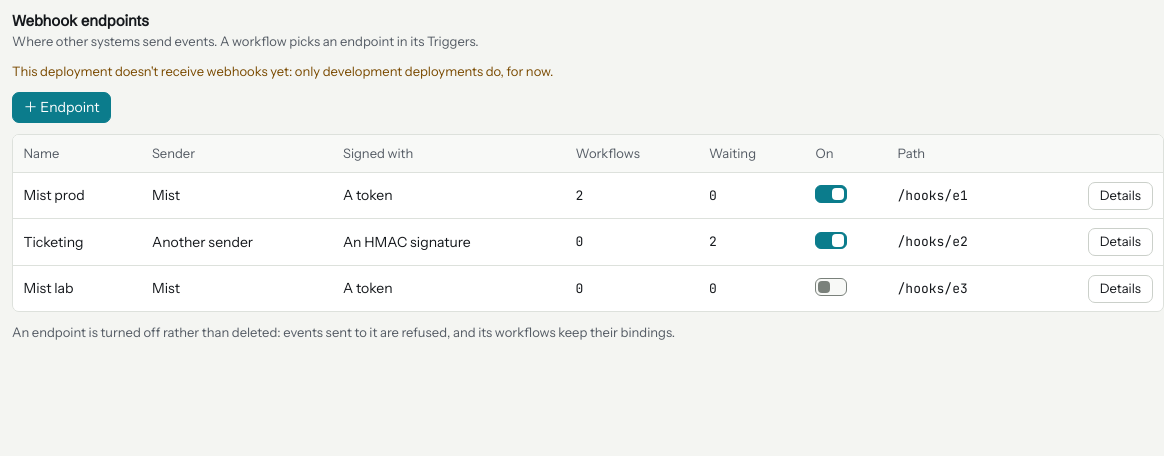
Test: Settings → Webhook endpoints › shows an endpoint's details: the workflows it starts, with their topics, and its path
Expected: the heading "Webhook endpoints" is shown, [12,11,149,30]
What coordinates should you click on to do the following:
click the button with aria-label "Mist prod, details"
I would click on:
 (1120, 196)
Its box is [1088,182,1152,210].
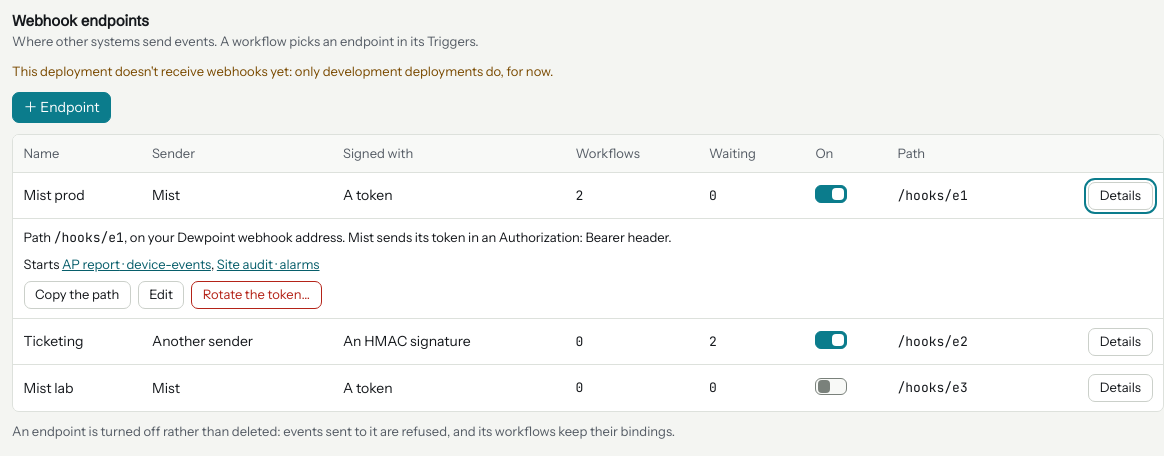
Result: the row that starts with "Path" shows "Path /hooks/e1, on your Dewpoint webhook address." at [13,218,1163,318]
Result: the link "AP report · device-events" is shown at [62,256,211,272]
Result: the link "Site audit · alarms" is shown at [217,256,320,272]
